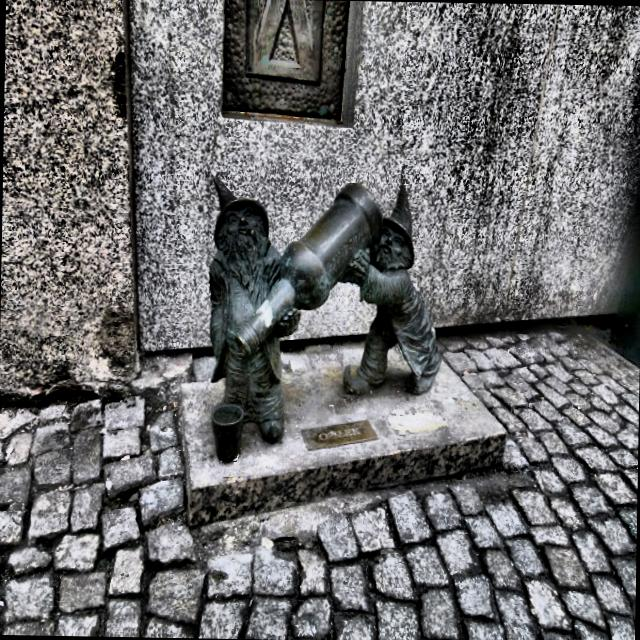Ogorzalek_i_Opilek: (210, 182, 441, 442)
